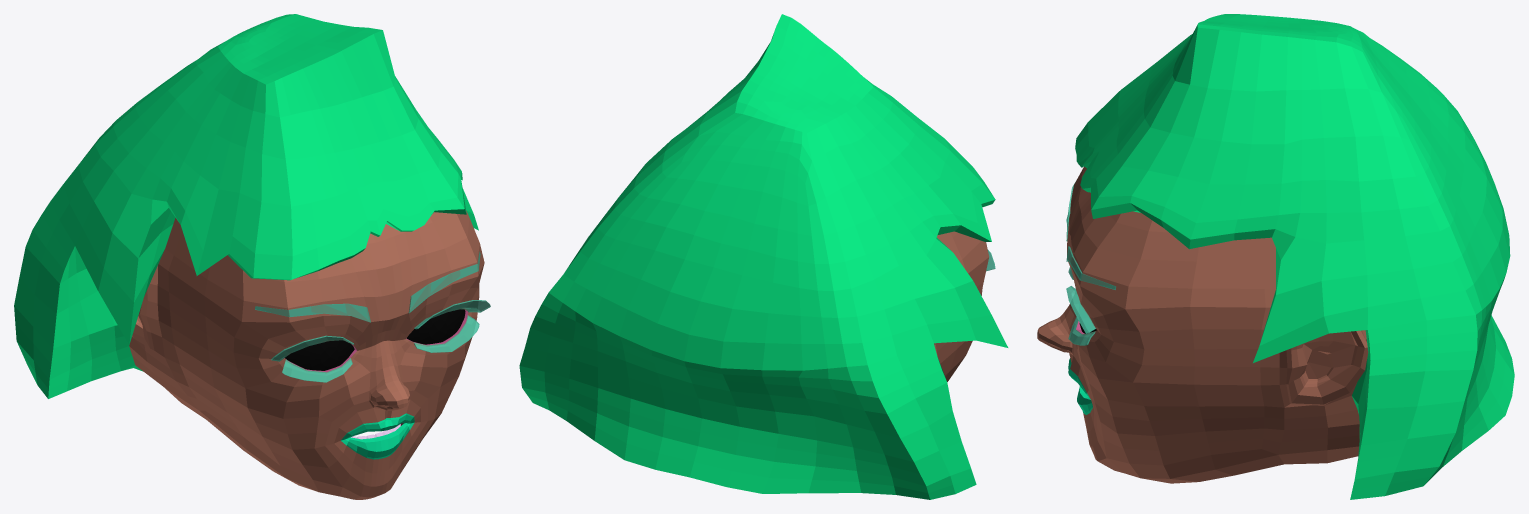
The model's file is DemonSharkey.fbx.
3 views of the same model, side by side, from view 1: azimuth 30°, elevation 25°; view 2: azimuth 150°, elevation 25°; view 3: azimuth 270°, elevation 25° (orthographic). The views are drawn at different scales.
Visible parts, largest first — view 1: SharkeyFace; view 2: SharkeyFace; view 3: SharkeyFace.
Part boxes in pixels (x1=…): SharkeyFace: x1=14, y1=14, x2=490, y2=499; SharkeyFace: x1=519, y1=14, x2=1008, y2=499; SharkeyFace: x1=1037, y1=14, x2=1514, y2=499.
Size of the model in its own units: 0.3574 by 0.3446 by 0.32.
